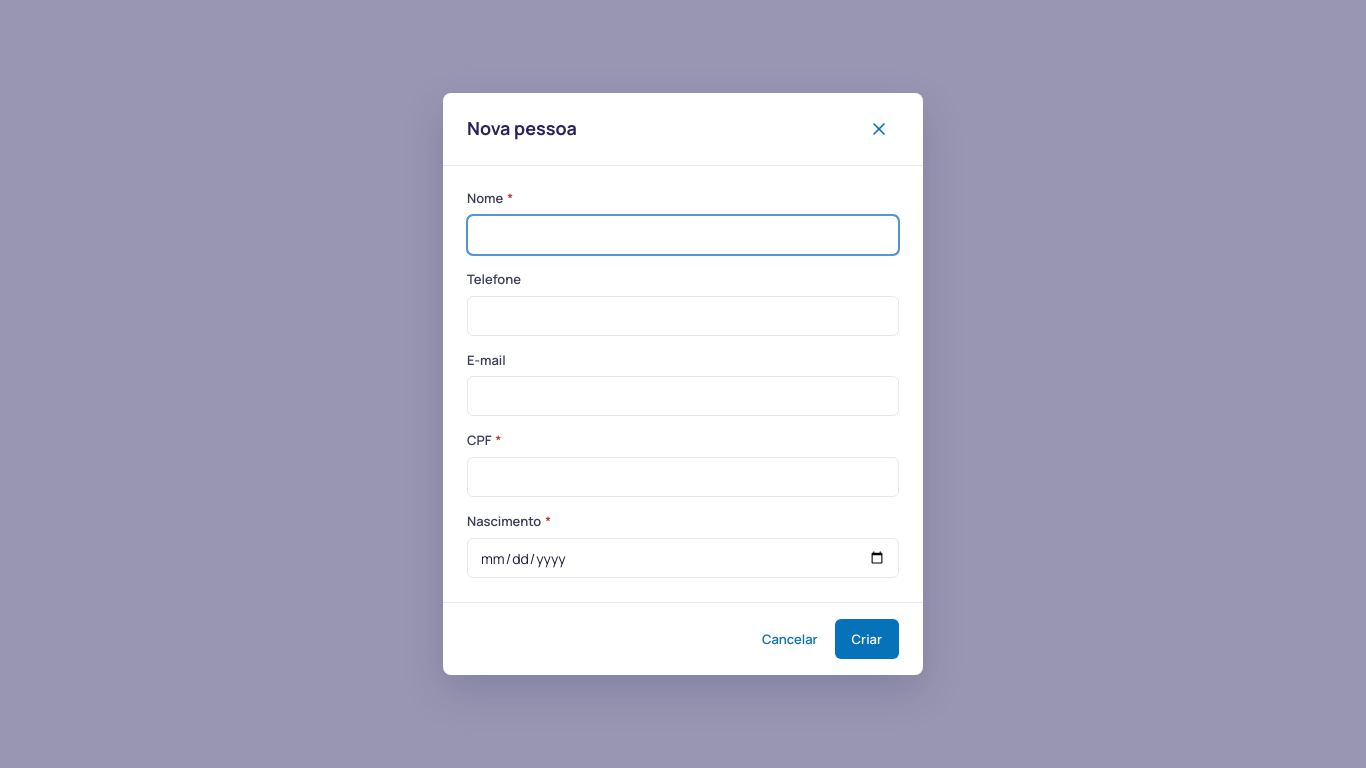
Test case: erro 422 cpf_invalido mostra erro no campo CPF
Type "Carlos Mendes" into the field labelled "Nome *" at (683, 235), box [467,215,899,255]
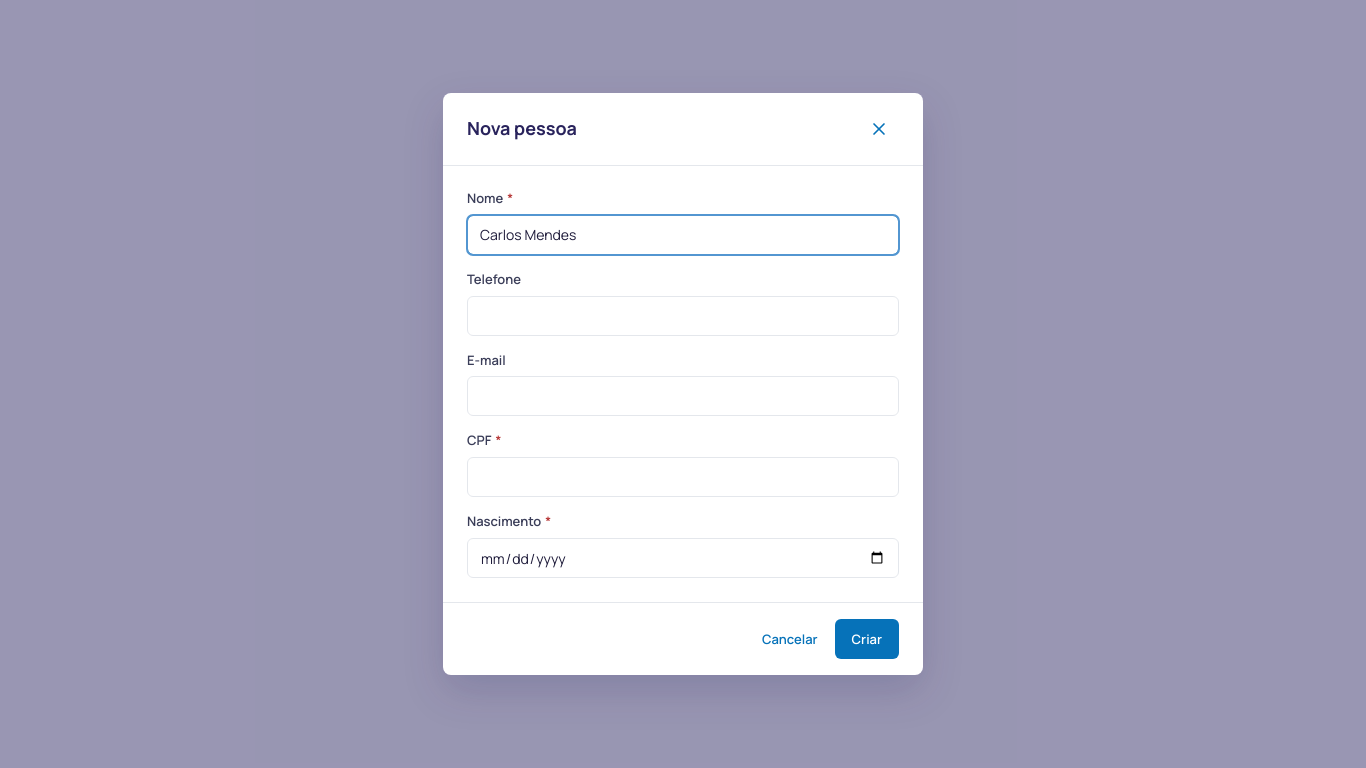
Type "52998224725" into the field labelled "CPF *" at (683, 477), box [467,457,899,497]
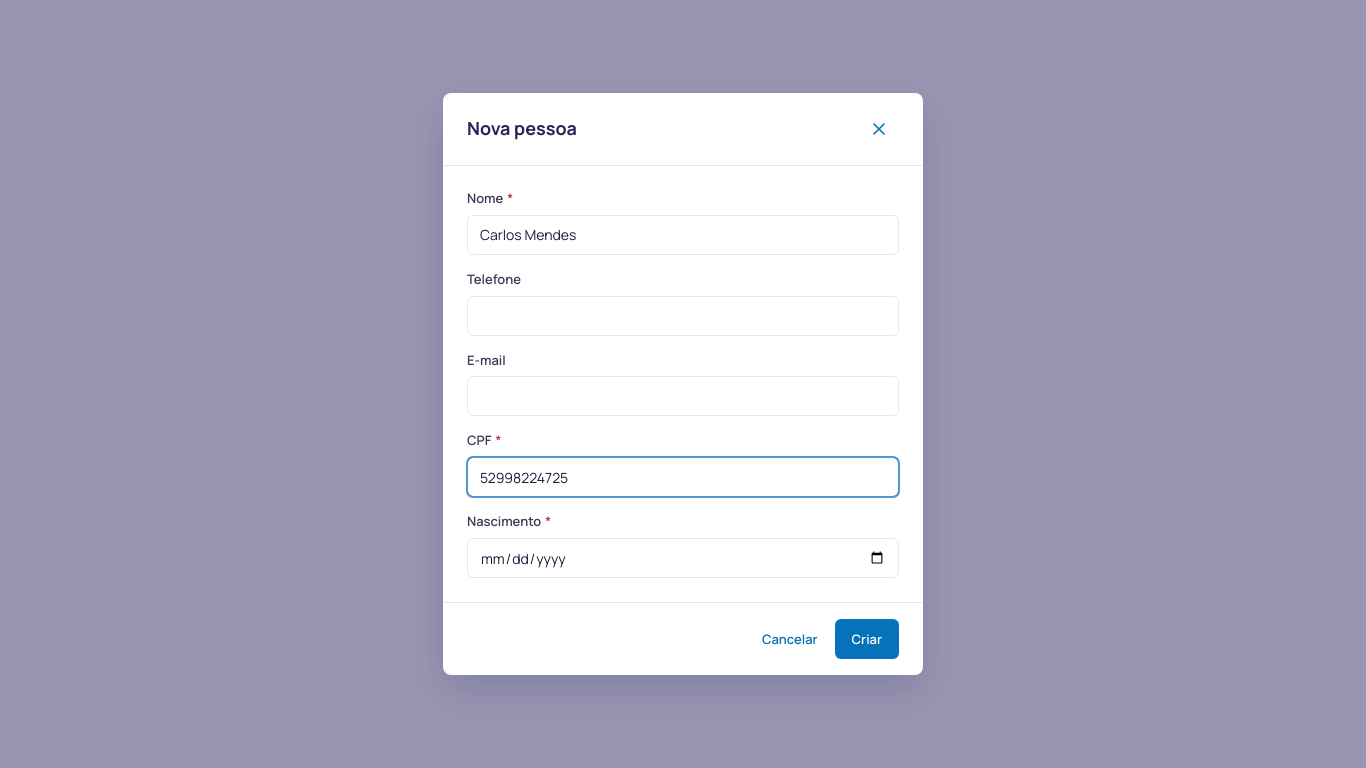
Type "1980-05-05" into the date field labelled "Nascimento *" at (683, 558), box [467,538,899,578]
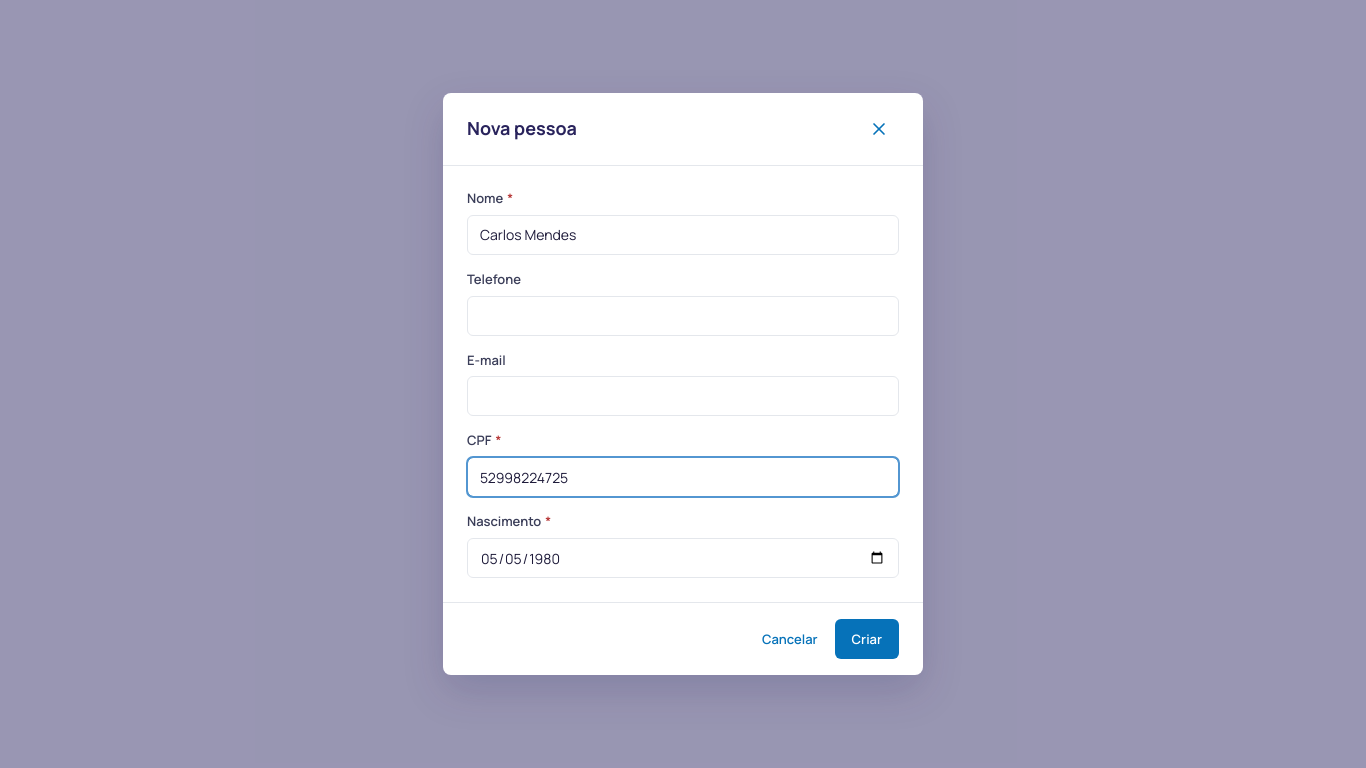
Click the button "Criar" at (867, 639), box [835,619,899,659]
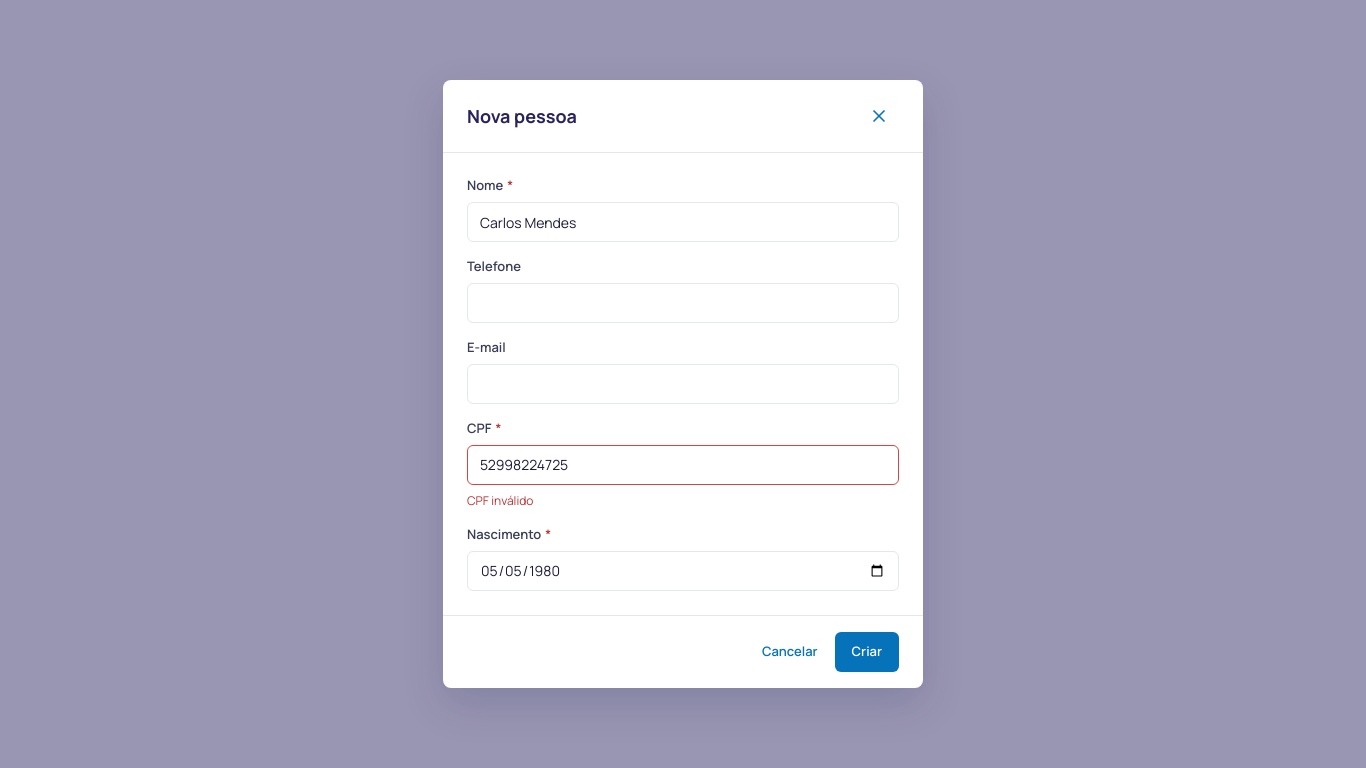
expect the text "CPF inválido" is shown: met, box [467,492,533,509]
